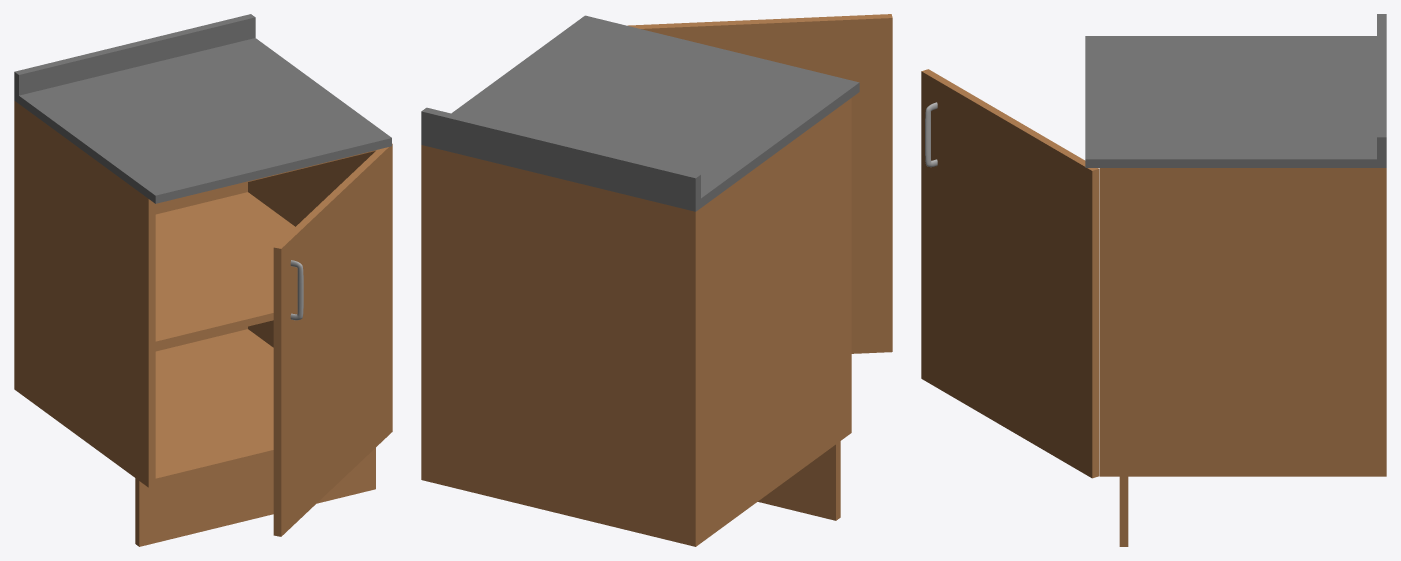
The model's file is CABINET.fbx.
The picture shows the model from 3 angles, left to right: view 1: azimuth 30°, elevation 25°; view 2: azimuth 150°, elevation 25°; view 3: azimuth 270°, elevation 25°; orthographic projection. The views are drawn at different scales.
Visible parts, largest first — view 1: Cabinet1, Countertop1, Cabinet1_Door, Baseboard1, Handle; view 2: Cabinet1, Countertop1, Cabinet1_Door, Baseboard1; view 3: Cabinet1, Cabinet1_Door, Countertop1, Baseboard1.
Part boxes in pixels (x1,y1,x2,y2): Cabinet1: [14, 101, 376, 487]; Countertop1: [14, 14, 391, 203]; Cabinet1_Door: [273, 143, 392, 536]; Baseboard1: [135, 448, 375, 546]; Handle: [290, 260, 303, 320]; Cabinet1: [421, 98, 851, 546]; Countertop1: [421, 15, 859, 211]; Cabinet1_Door: [627, 14, 892, 353]; Baseboard1: [758, 441, 840, 520]; Cabinet1: [1099, 168, 1386, 476]; Cabinet1_Door: [921, 69, 1099, 478]; Countertop1: [1085, 14, 1386, 167]; Baseboard1: [1119, 476, 1128, 546].
Bounding box in the file's own units: 60.96 × 93 × 95.68.
